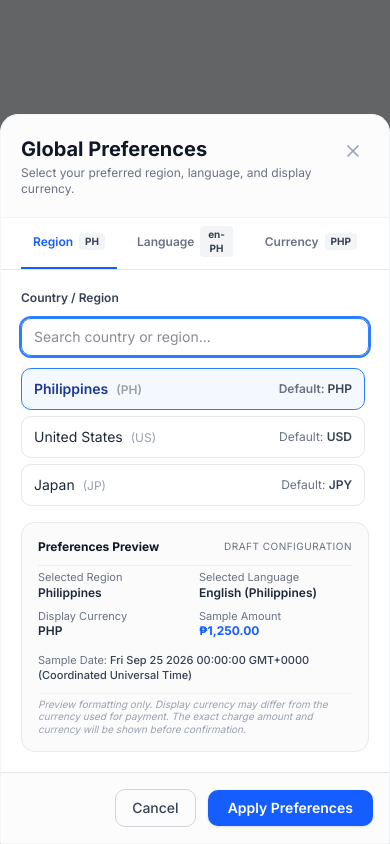
Test: GLCC-P2A — Global Preferences UI Foundation › 2. Control Independence & Financial Boundaries › 2.3. Selecting country proposes that country default display currency
This screenshot has width=390, height=844.
// Switch to Region tab (active by default)
Step 1. Click the radio button labelled "United States(US) Default: USD" → (78, 436), box [21, 416, 365, 458]
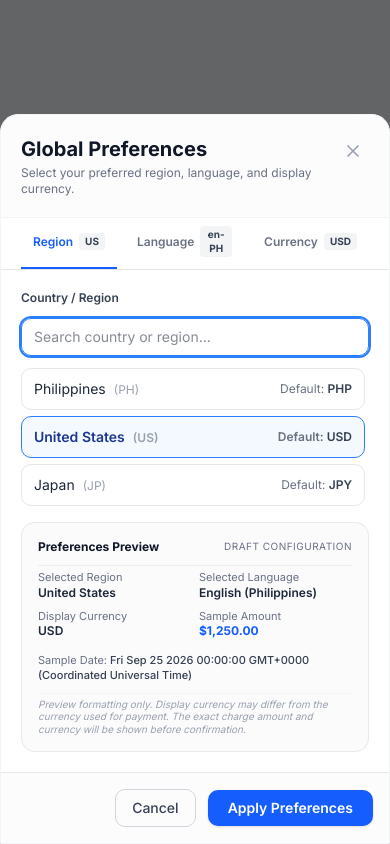
Expected: the tab "Language en-PH" is shown, [125, 226, 244, 269]
Expected: the tab "Region US" is shown, [21, 226, 117, 269]
Expected: the tab "Currency USD" is shown, [252, 226, 369, 269]
